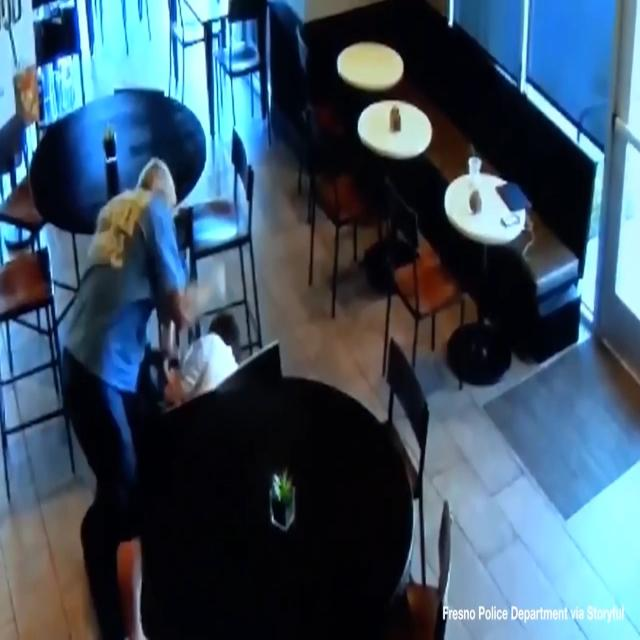fight: (55, 151, 253, 640)
